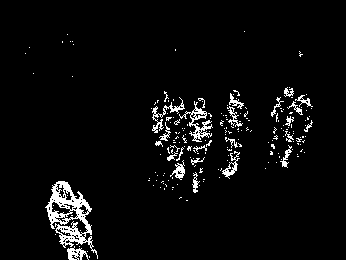person: (46, 179, 100, 259), (222, 89, 250, 179), (186, 95, 211, 195), (285, 92, 311, 173), (166, 96, 188, 185), (149, 89, 173, 170), (273, 85, 290, 162)
